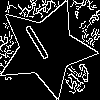I: (21, 23, 58, 70)
